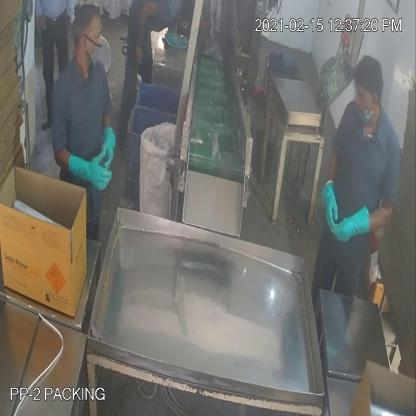glove: (64, 146, 121, 203), (332, 206, 372, 250)
no_glove: (134, 1, 157, 72)
